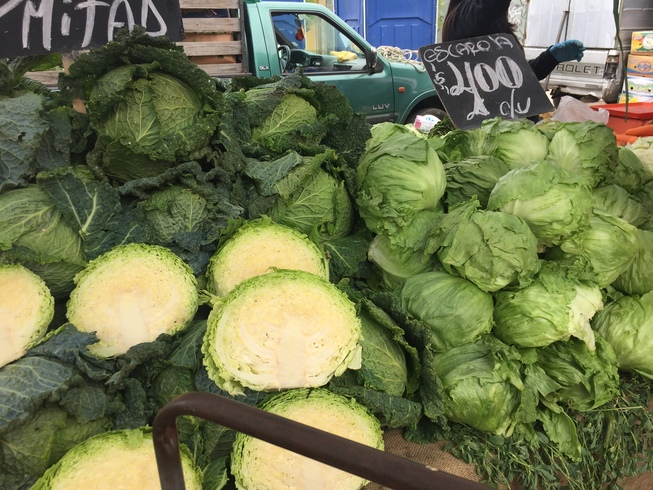precio: (414, 28, 562, 141), (1, 1, 198, 63)
